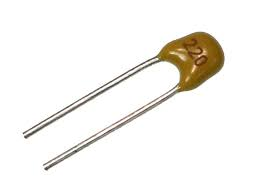ceramic capacitor: (120, 8, 242, 137)
